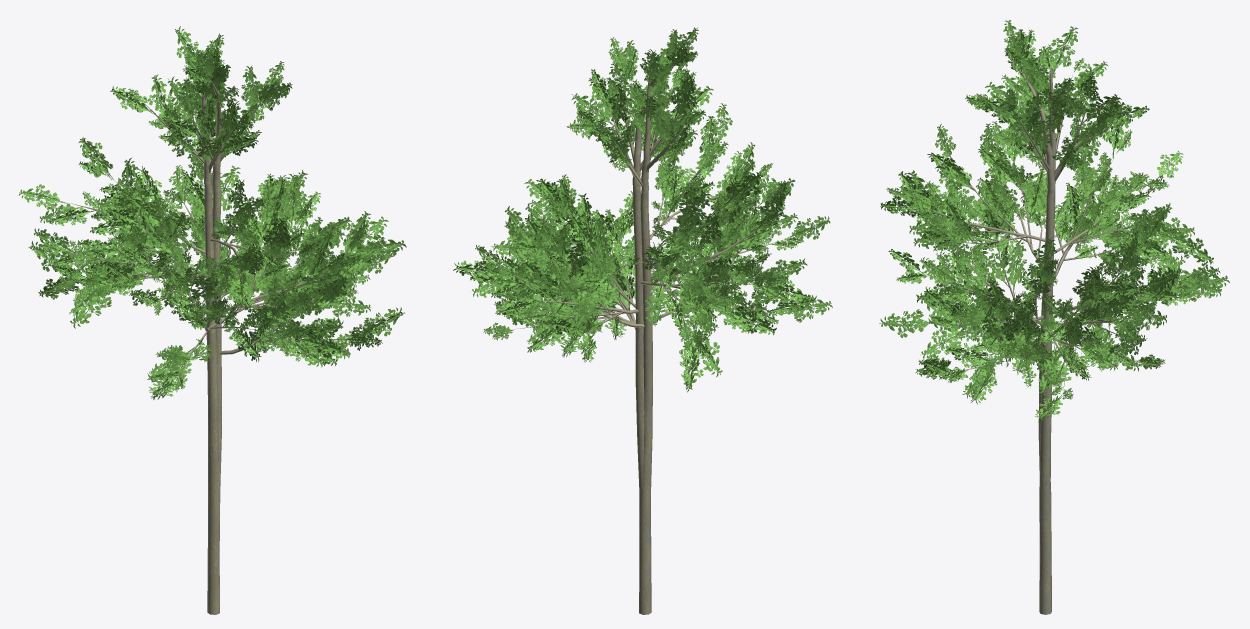
Rendered from woodland-aspen.glb.
3 renders of one model, left to right at view 1: azimuth 30°, elevation 25°; view 2: azimuth 150°, elevation 25°; view 3: azimuth 270°, elevation 25°, orthographic.
Visible parts, largest first — view 1: aspen-1, aspen-0; view 2: aspen-0, aspen-1; view 3: aspen-1, aspen-0.
Boxes of the visible parts, box(x1,y1,x2,y2) form: aspen-1: box(28, 33, 404, 614); aspen-0: box(18, 26, 406, 547); aspen-0: box(453, 48, 830, 550); aspen-1: box(472, 27, 832, 614); aspen-1: box(879, 20, 1229, 614); aspen-0: box(880, 26, 1213, 545).
Bounding box in the file's own units: 0.5909 × 1 × 0.5679.
2 materials, 2 textured.
